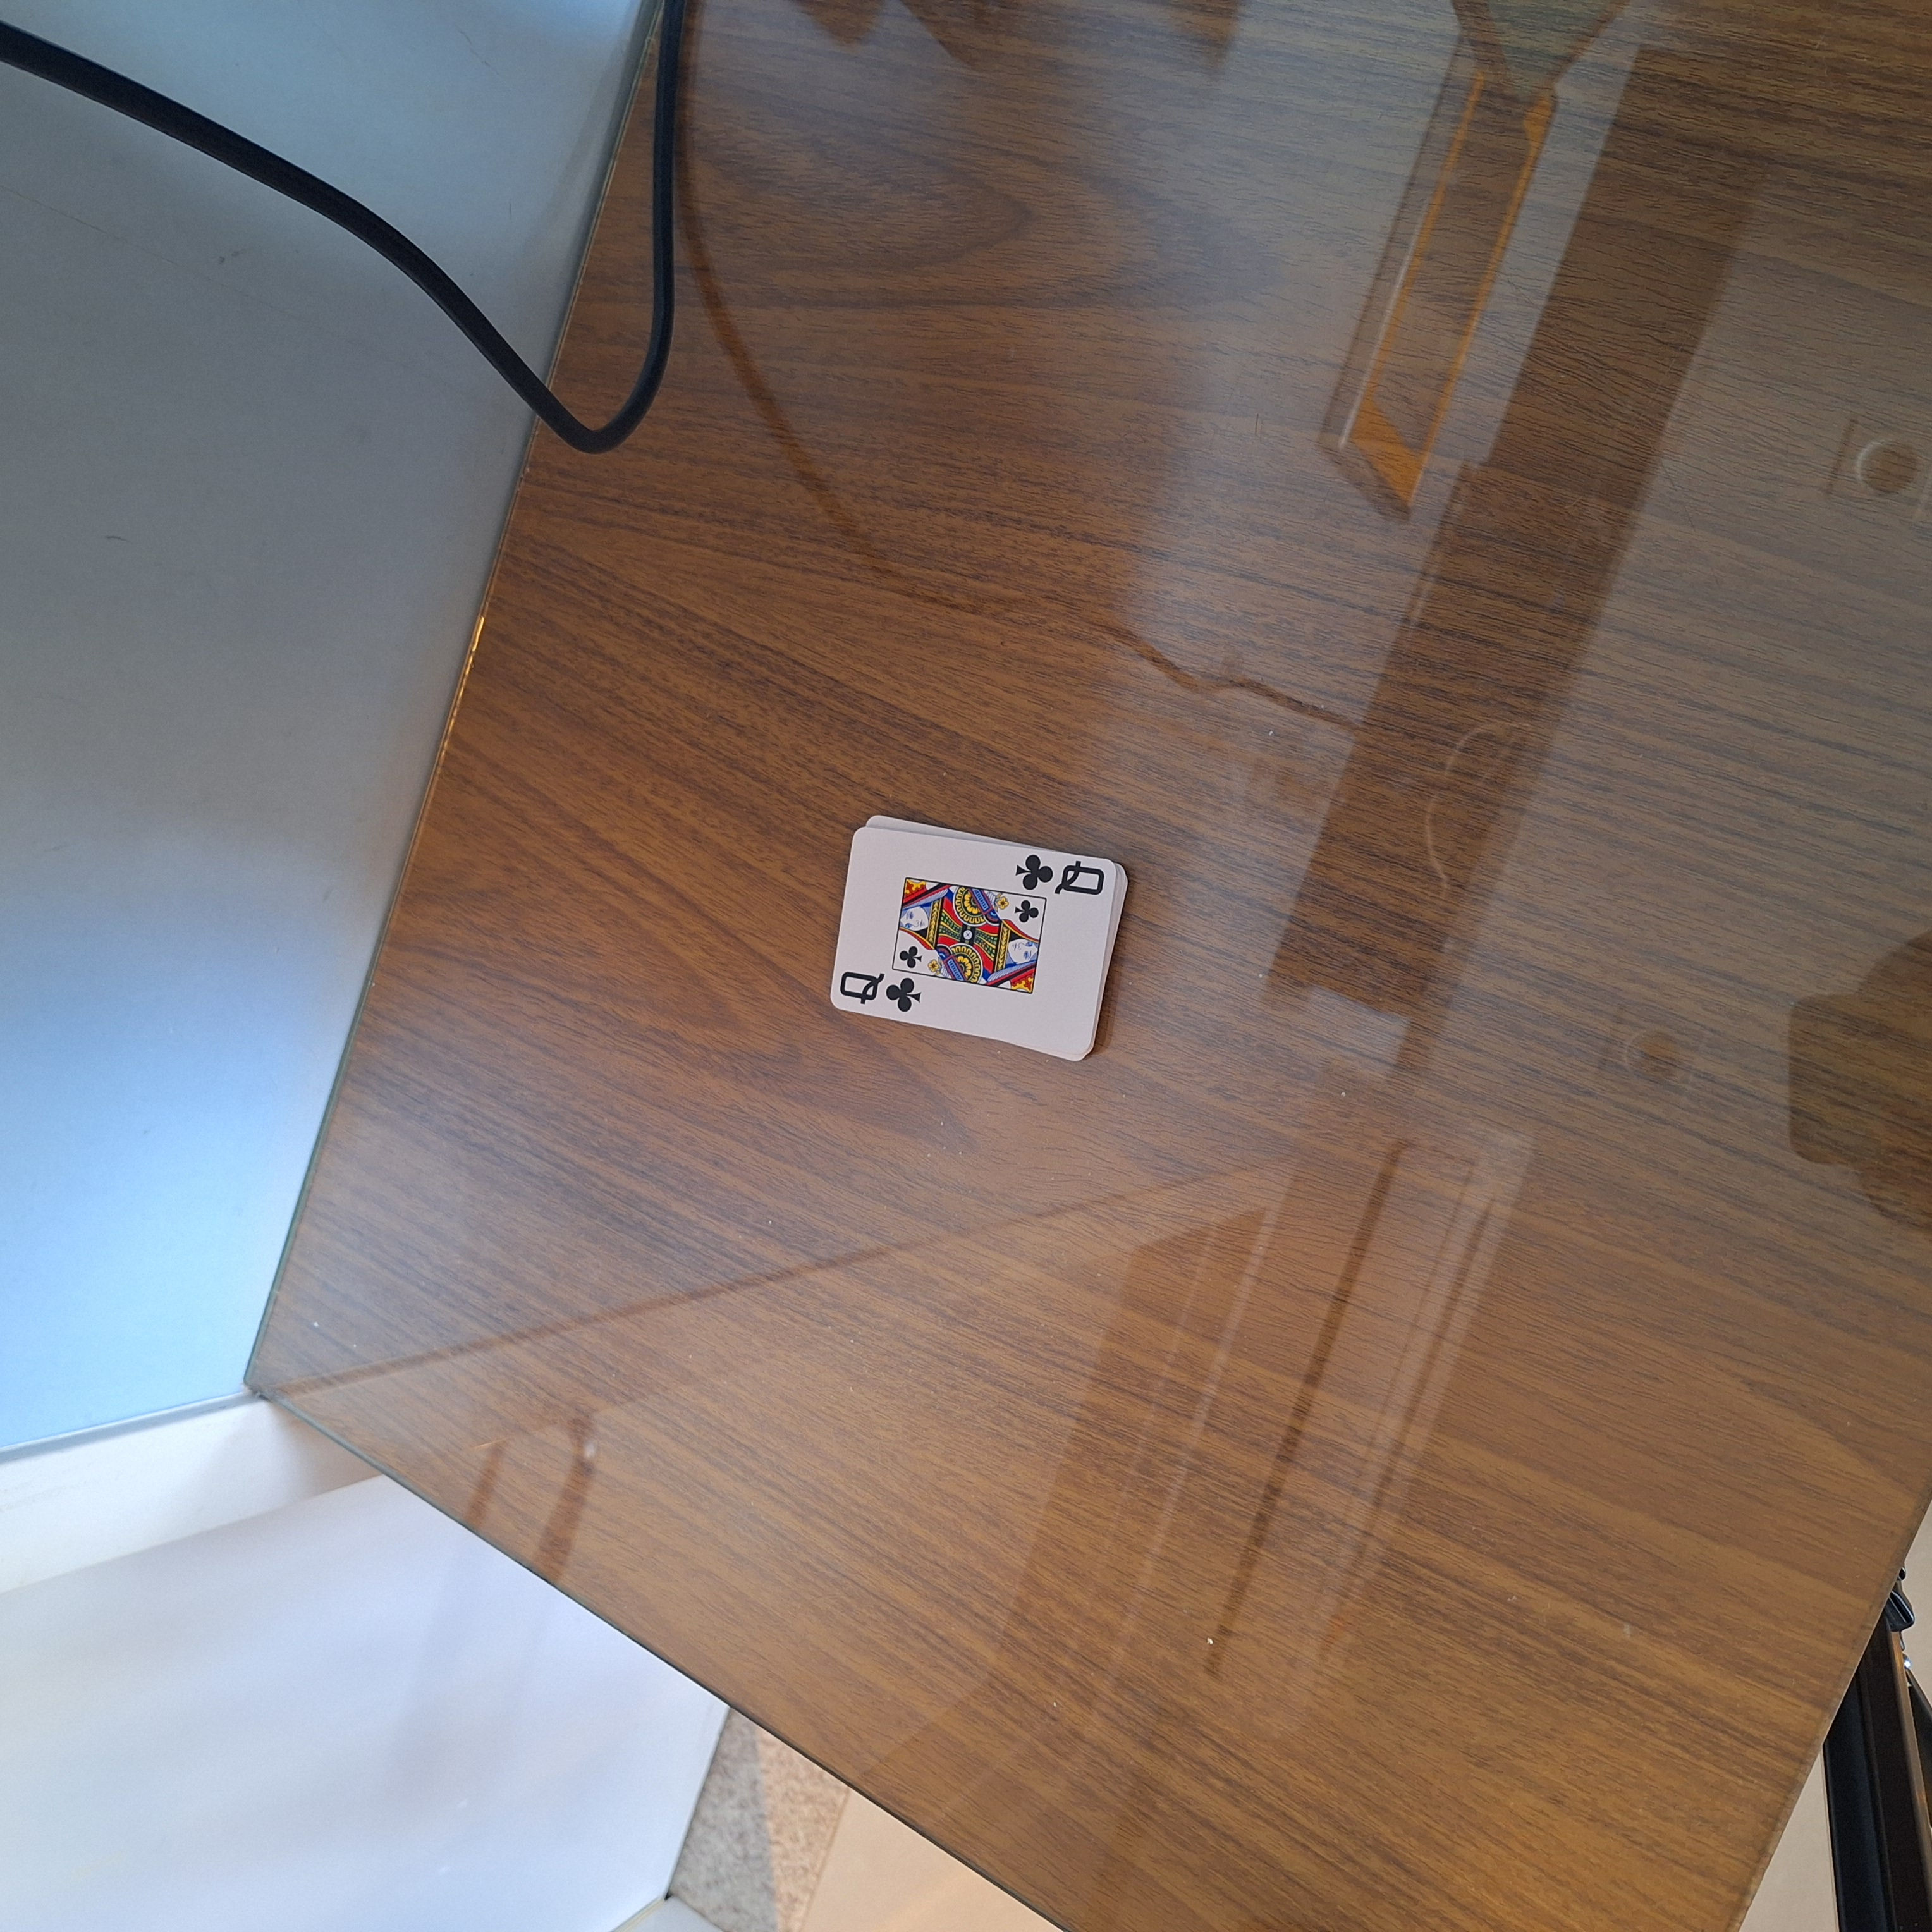QP: (1003, 846, 1115, 909), (828, 964, 929, 1023)
